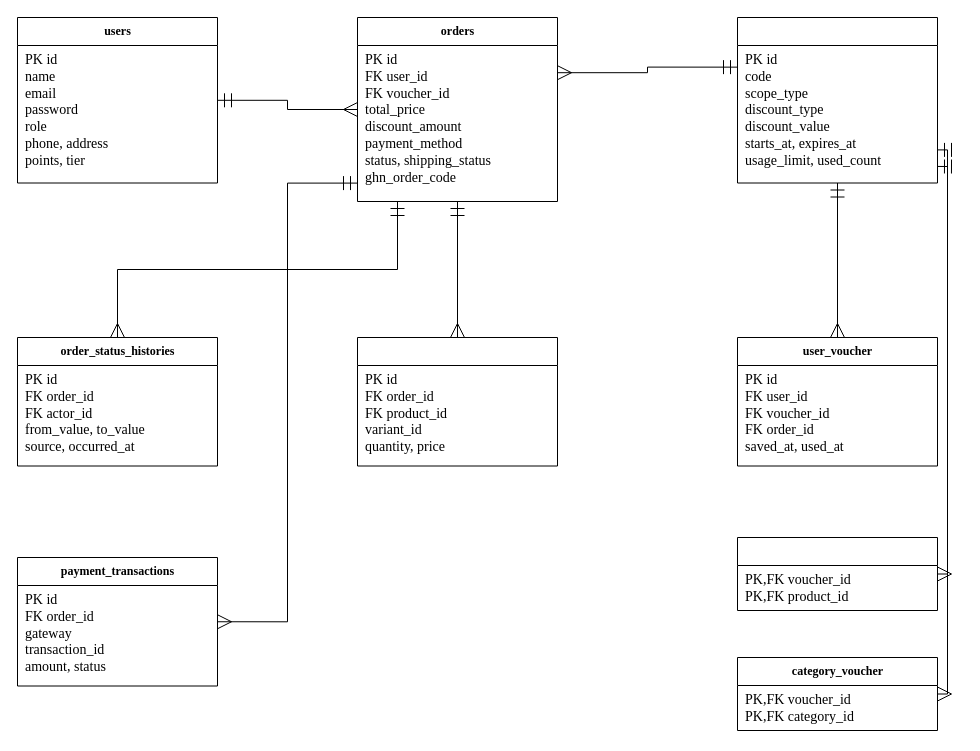
Some shapes in this 980 by 751 pixel diagram are drawn without their labels. The shapes that lost their labels are listed below. From the top down, each one's box as (x1, y1, x2, y2) in pixels, then its label:
(736, 16, 938, 183): vouchers
(356, 336, 558, 466): order_items
(736, 536, 938, 610): product_voucher
